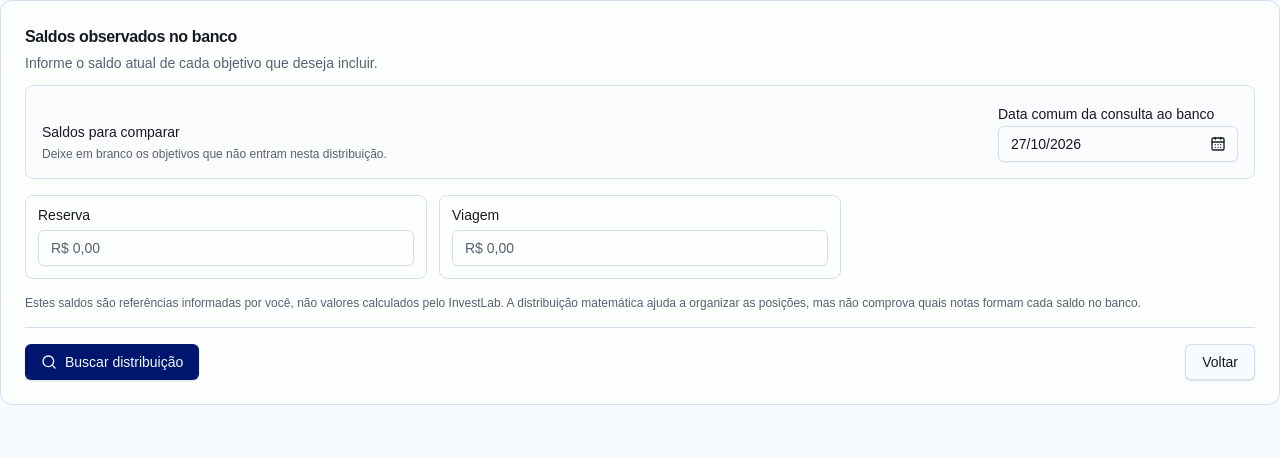
Scenario: PortfolioObjectiveOrganizer › rejects a future query date inline
This screenshot has width=1280, height=458.
Type "10000" into the field labelled "Reserva".
click(226, 248); type("10000")  # box x1=38 y1=230 x2=414 y2=266
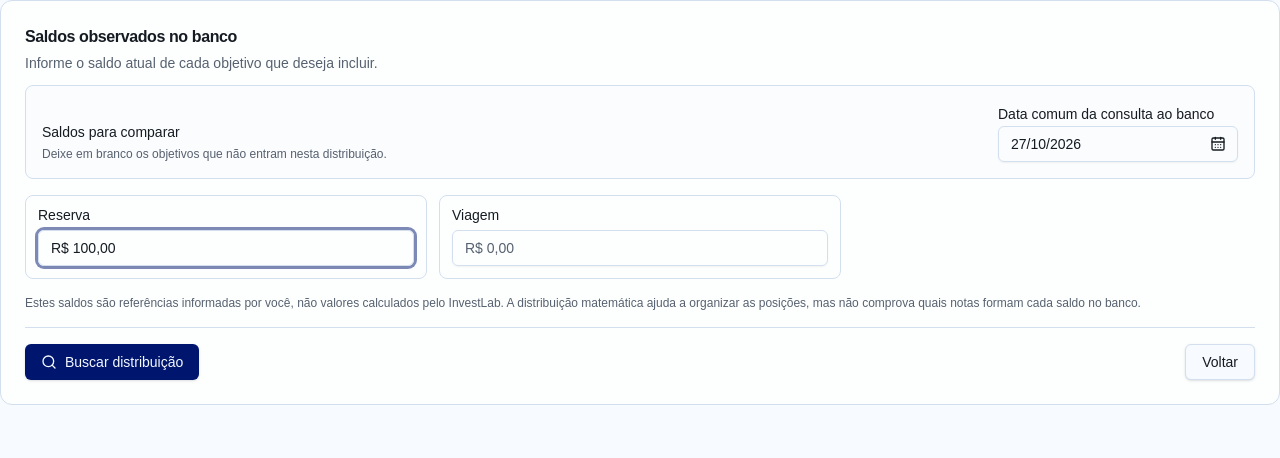
Replace the text in the field labelled "Data comum da consulta ao banco" with "31/12/2999" at x=1118, y=144, box x1=998 y1=126 x2=1238 y2=162
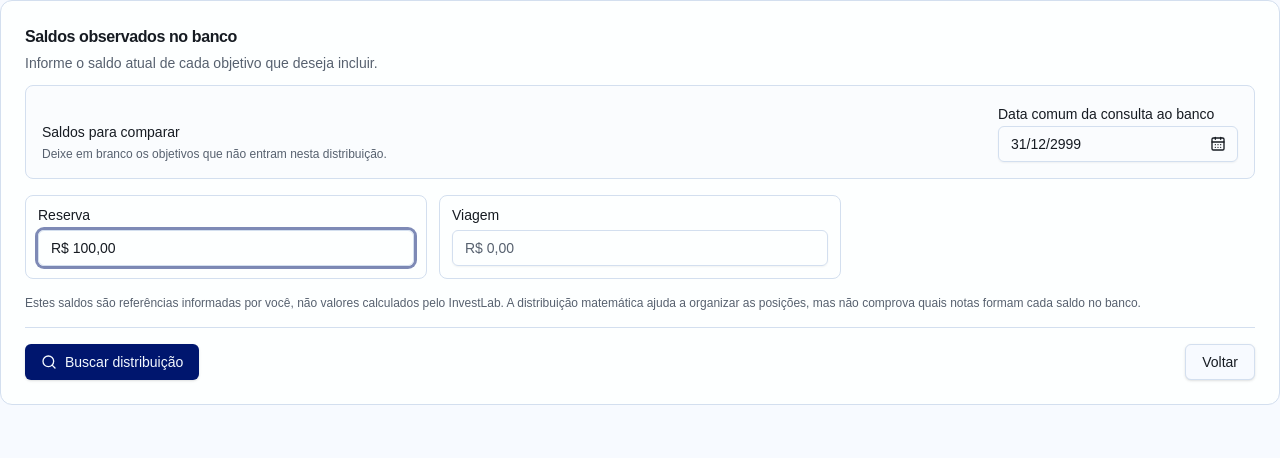
Click the button "Buscar distribuição".
click(112, 362)  # box x1=25 y1=344 x2=199 y2=380
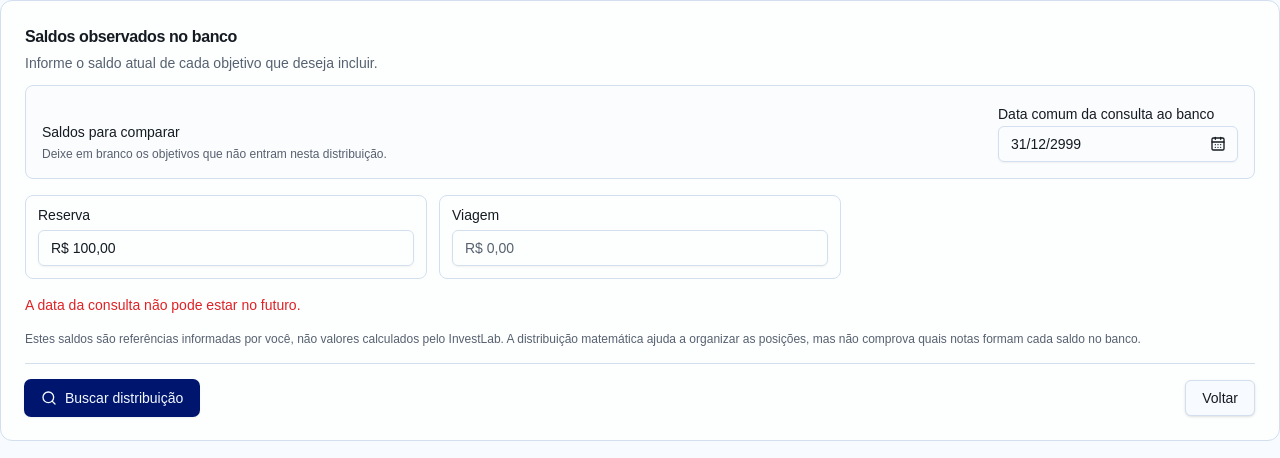
Expected: the message reads "A data da consulta não pode estar no futuro.", x1=25 y1=297 x2=300 y2=313
